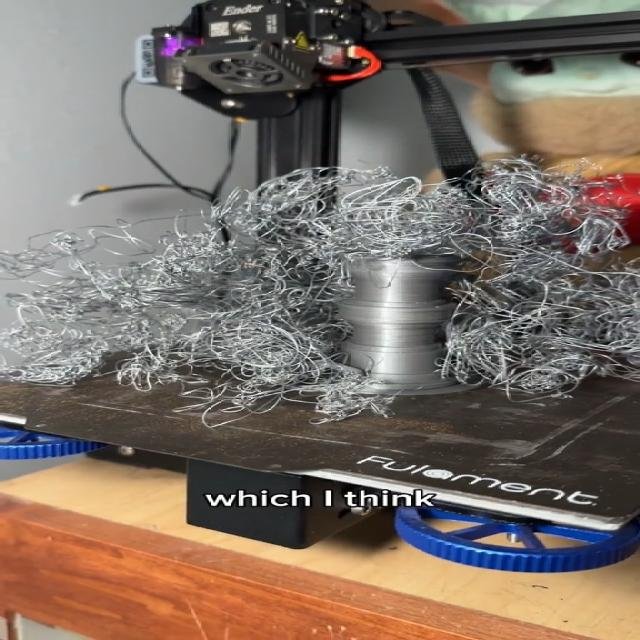spaghetti: (1, 153, 638, 429)
